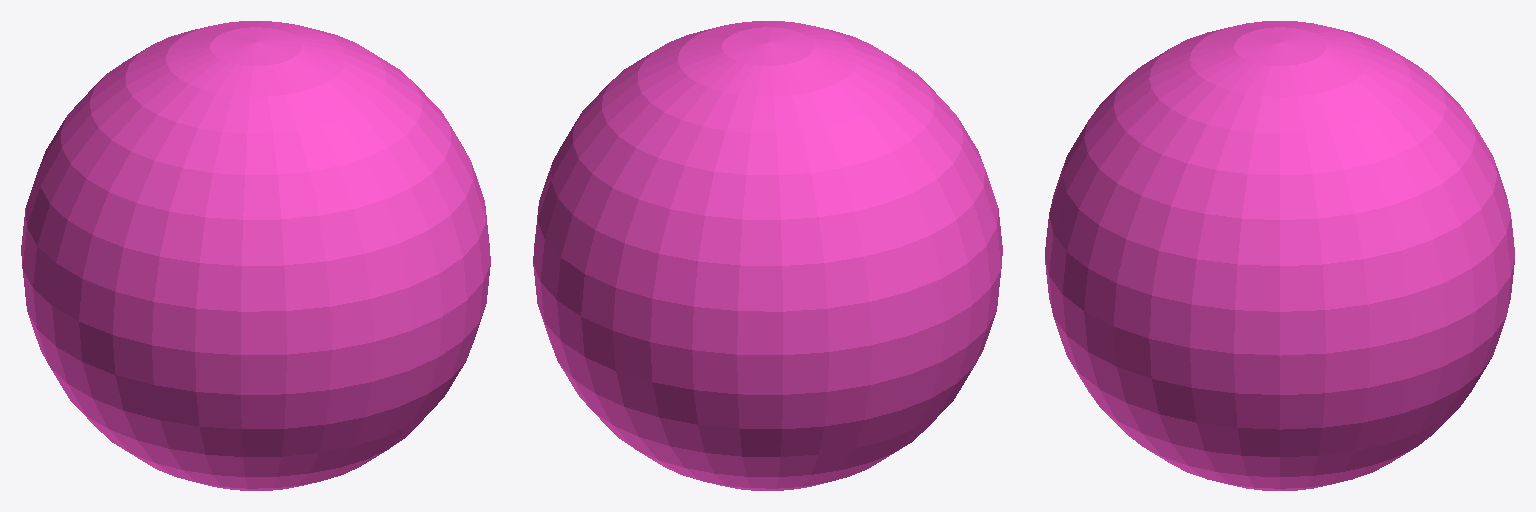
Rendered from ovocyte_avec_noyau.obj.
3 views of the same model, side by side, from view 1: azimuth 30°, elevation 25°; view 2: azimuth 150°, elevation 25°; view 3: azimuth 270°, elevation 25° (orthographic).
Visible parts, largest first — view 1: Sphere.001; view 2: Sphere.001; view 3: Sphere.001.
Boxes of the visible parts, x1=… form: Sphere.001: x1=21, y1=21, x2=490, y2=490; Sphere.001: x1=533, y1=21, x2=1002, y2=490; Sphere.001: x1=1045, y1=21, x2=1514, y2=490.
Size of the model in its own units: 5.5 by 5.5 by 5.5.